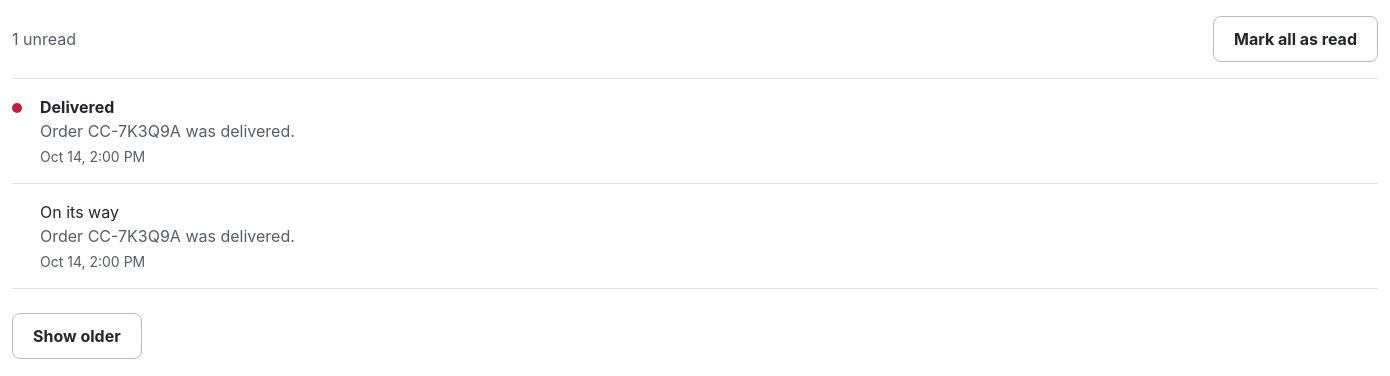
Test: inbox › marks a notification read when it's opened, then goes to its page
What coordinates should you click on to do the following:
click the button "Delivered Order CC-7K3Q9A was delivered. Oct 14, 2:00 PM"
I would click on:
 (77, 107)
Its box is [12,79,1378,183].
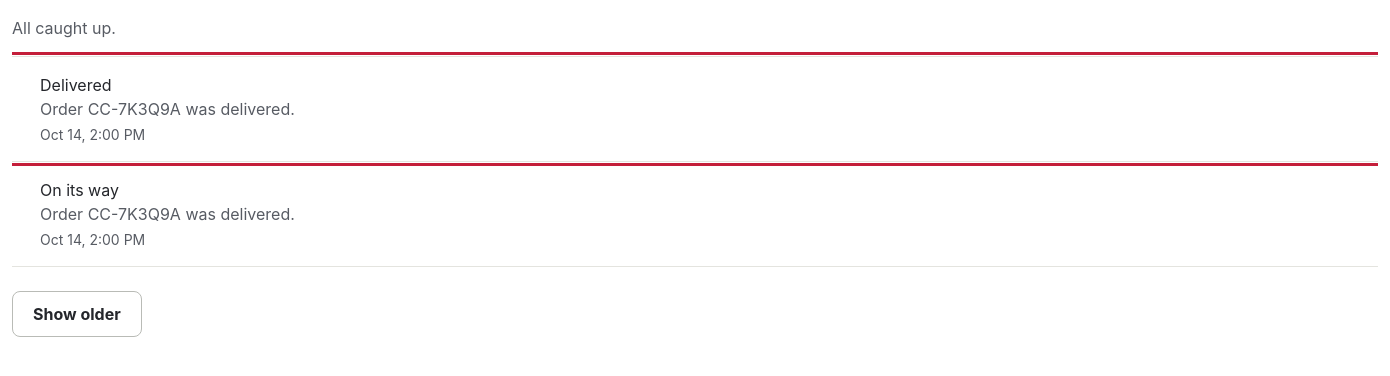
Expected: the text "All caught up." is shown, [12,16,116,40]
